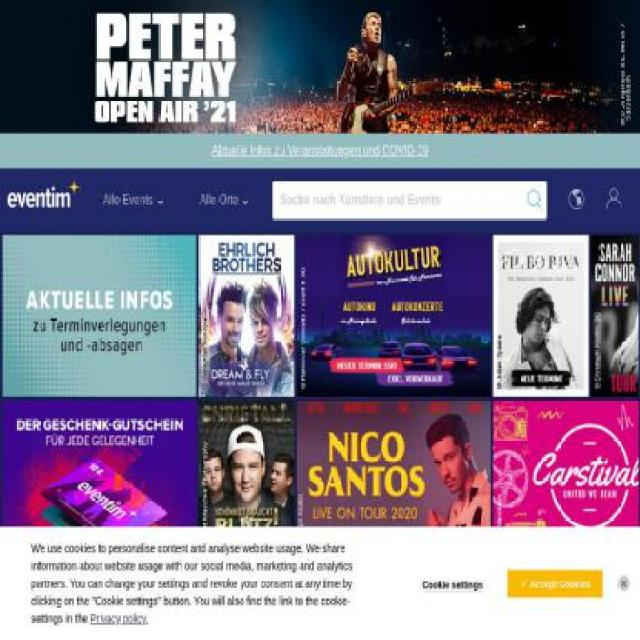button: (1, 233, 198, 399), (1, 398, 198, 564), (326, 233, 523, 399), (326, 398, 523, 564), (32, 233, 228, 399), (522, 398, 640, 565), (32, 398, 131, 564), (228, 233, 327, 399), (228, 398, 327, 564), (522, 233, 621, 399), (130, 398, 228, 564), (0, 233, 32, 399), (0, 398, 32, 564), (89, 170, 177, 230), (187, 170, 262, 230), (335, 575, 447, 610), (17, 575, 126, 610), (7, 179, 81, 221), (621, 233, 639, 401), (125, 575, 206, 610), (516, 575, 590, 610), (446, 575, 517, 610), (557, 166, 595, 229), (205, 575, 272, 610), (271, 575, 335, 610), (588, 574, 640, 612), (519, 580, 592, 594), (422, 581, 483, 596), (606, 186, 622, 209)
field: (272, 181, 522, 219)
